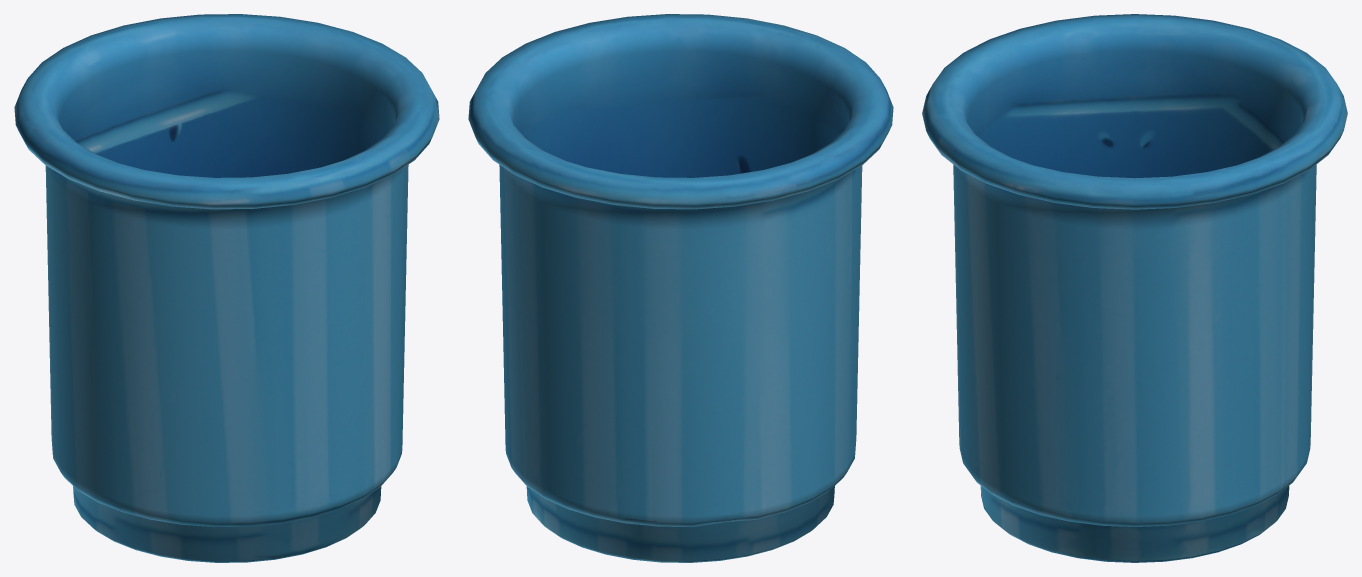
File: 065-b_cups.dae
3 renders of one model, left to right at view 1: azimuth 30°, elevation 25°; view 2: azimuth 150°, elevation 25°; view 3: azimuth 270°, elevation 25°, orthographic.
Parts seen in each view (by area): view 1: 065-b_cups; view 2: 065-b_cups; view 3: 065-b_cups.
Part boxes in pixels (x1,y1,x2,y2): 065-b_cups: (14, 14, 439, 562); 065-b_cups: (468, 14, 893, 562); 065-b_cups: (922, 14, 1347, 562).
Bounding box in the file's own units: 0.0611 × 0.0611 × 0.0634.
Materials: 1 (1 with a texture image).
